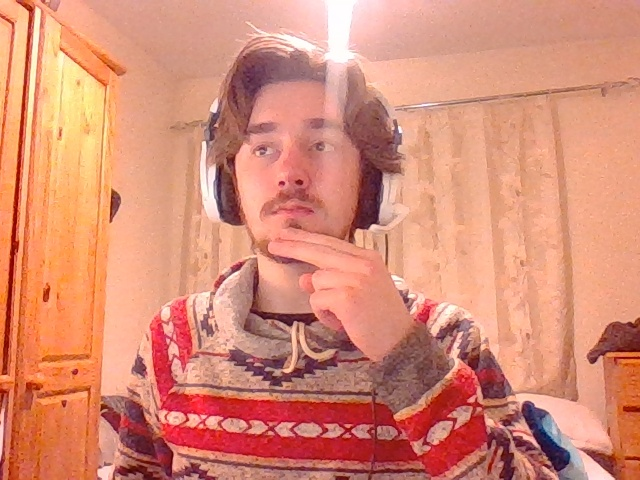afternoon: (265, 226, 414, 347)
